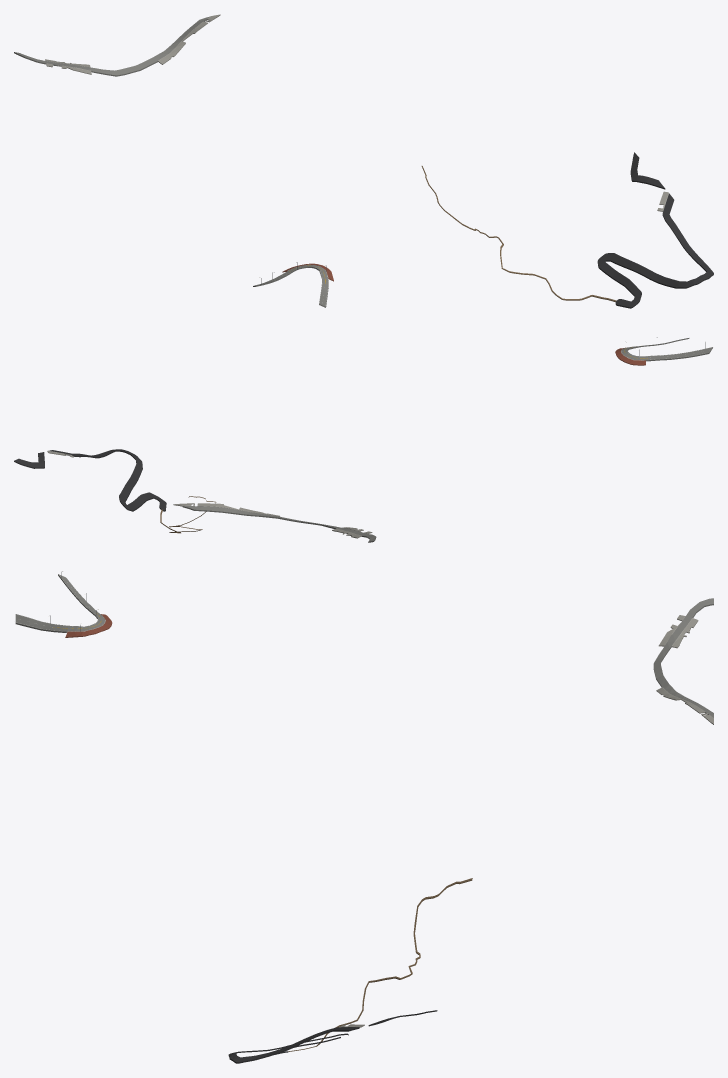
3 renders of one model, top to bottom at view 1: azimuth 30°, elevation 25°; view 2: azimuth 150°, elevation 25°; view 3: azimuth 270°, elevation 25°, orthographic. The views are drawn at different scales.
Size of the model in its own units: 588 by 219 by 585.
